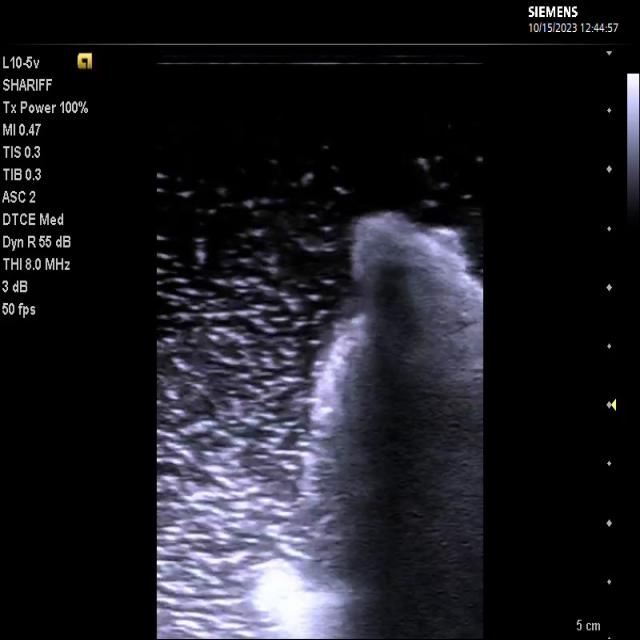tissue: (251, 213, 484, 640)
